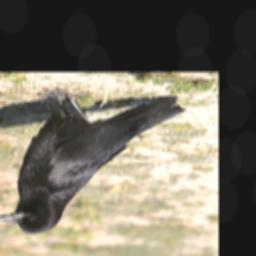Crow: (0, 87, 186, 235)
